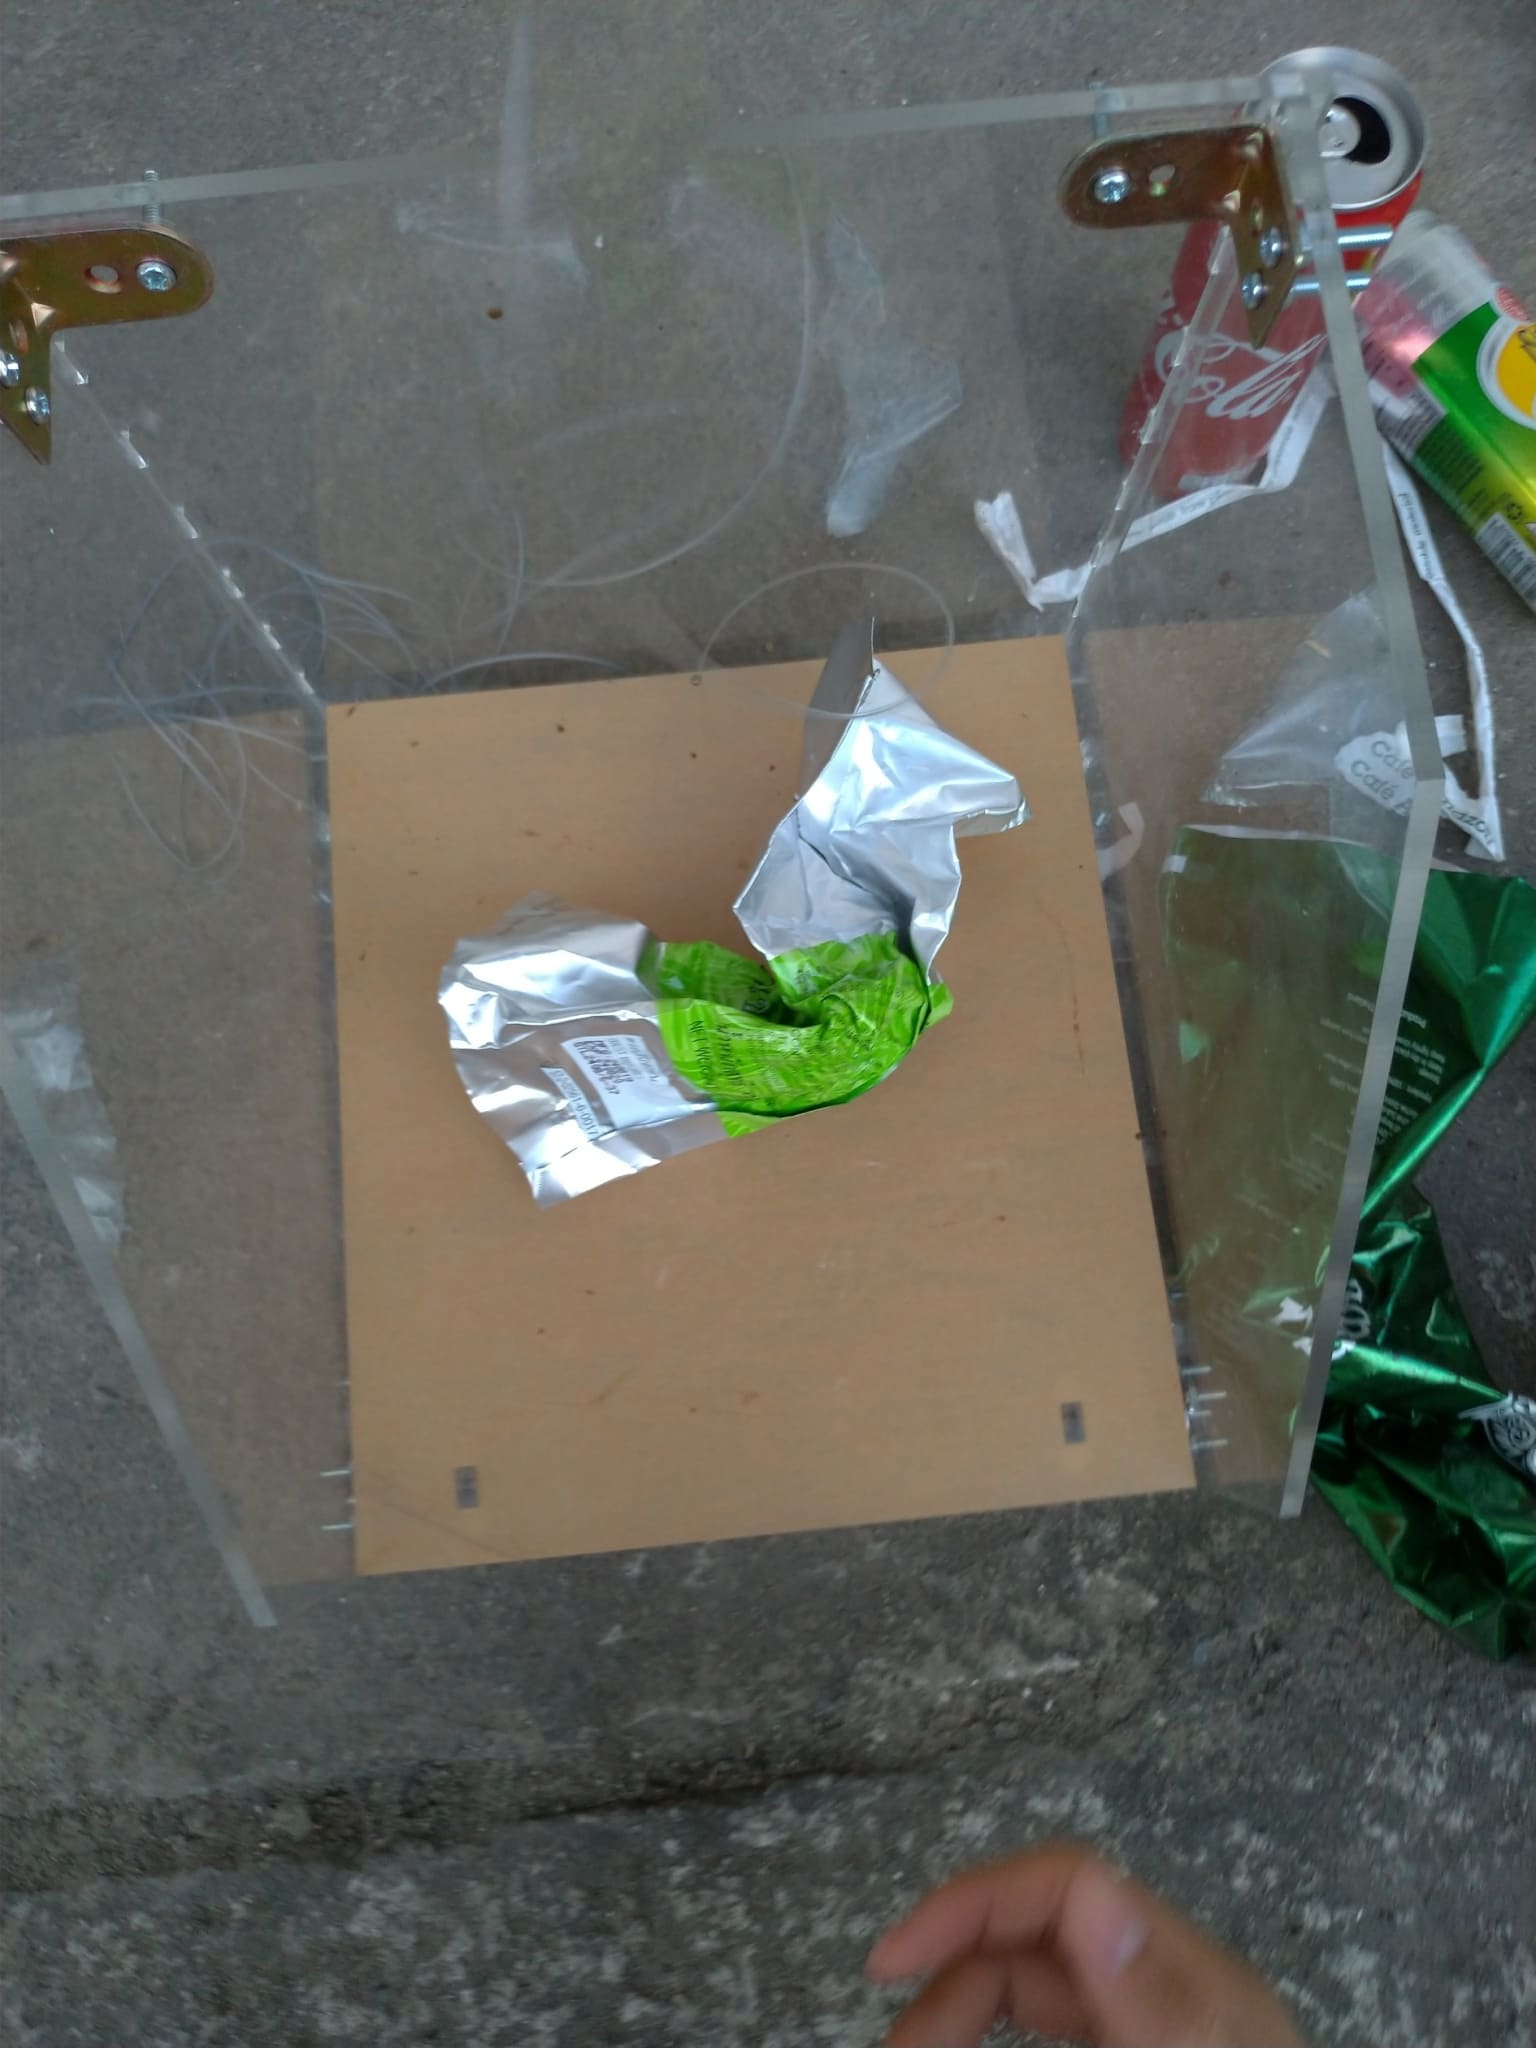AlCan: (1125, 45, 1430, 502), (1357, 232, 1536, 590)
Others: (429, 611, 1037, 1185), (1163, 822, 1536, 1666), (979, 364, 1344, 598), (1347, 419, 1491, 851)
